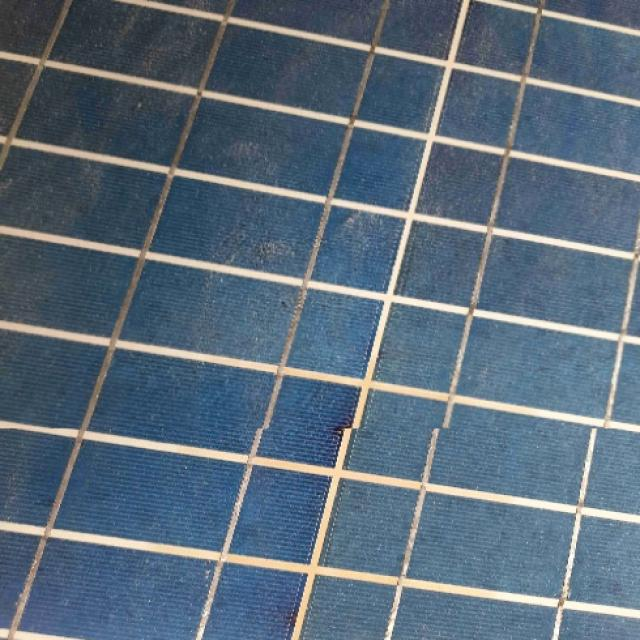Dirty: (0, 0, 640, 428)
